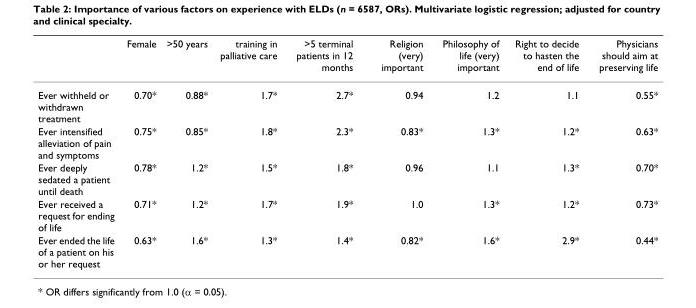table: (37, 37, 657, 268)
table column: (37, 37, 119, 268), (506, 37, 588, 268), (286, 37, 366, 268), (432, 37, 506, 268), (213, 37, 286, 268), (588, 37, 657, 268), (366, 37, 432, 268), (160, 37, 213, 268), (119, 37, 160, 268)
table column header: (37, 37, 657, 80)
table row: (37, 80, 657, 124), (37, 37, 657, 80), (37, 196, 657, 233), (37, 124, 657, 160), (37, 160, 657, 196), (37, 233, 657, 268)
